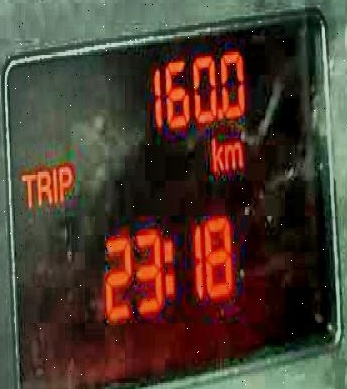-: (216, 105, 222, 120)
0: (191, 51, 216, 120), (220, 47, 245, 116)
1: (188, 222, 203, 298), (149, 62, 162, 127)
2: (101, 231, 131, 320)
3: (133, 227, 162, 313)
6: (164, 56, 190, 129)
8: (203, 214, 231, 296)
X: (19, 167, 35, 209), (35, 165, 51, 205), (162, 238, 173, 296), (57, 161, 71, 203), (224, 138, 244, 167), (209, 132, 222, 172), (50, 163, 57, 205)
